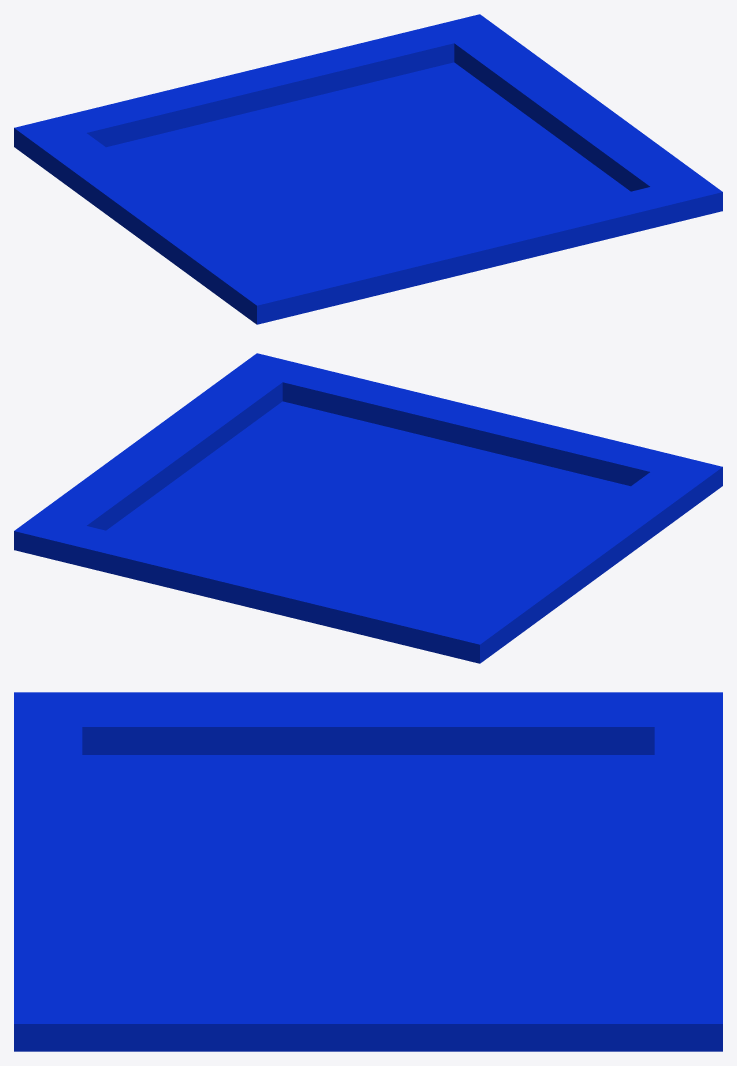
Rendered from regularRoof.fbx.
3 renders of one model, top to bottom at view 1: azimuth 30°, elevation 25°; view 2: azimuth 150°, elevation 25°; view 3: azimuth 270°, elevation 25°, orthographic. The views are drawn at different scales.
Parts seen in each view (by area): view 1: RegularRoof; view 2: RegularRoof; view 3: RegularRoof.
Boxes of the visible parts, x1=… form: RegularRoof: x1=14, y1=14, x2=722, y2=324; RegularRoof: x1=14, y1=353, x2=722, y2=663; RegularRoof: x1=14, y1=692, x2=722, y2=1051.
Bounding box in the file's own units: 981 × 38.41 × 886.
